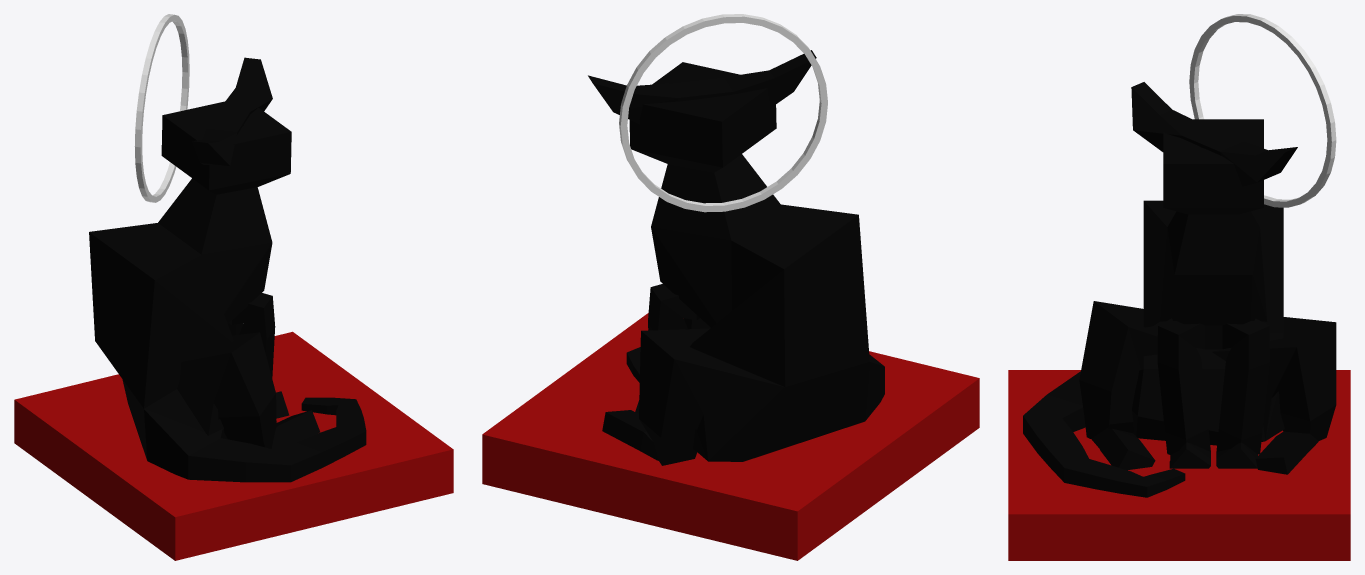
File: chat_noir.fbx
3 views of the same model, side by side, from view 1: azimuth 30°, elevation 25°; view 2: azimuth 150°, elevation 25°; view 3: azimuth 270°, elevation 25° (orthographic). The views are drawn at different scales.
Visible parts, largest first — view 1: Cat, Ground, Ears, Circle; view 2: Cat, Ground, Circle, Ears; view 3: Cat, Ground, Ears, Circle.
Boxes of the visible parts, left/top/right/bottom form: Cat: left=89, top=101, right=366, bottom=482; Ground: left=14, top=331, right=453, bottom=560; Ears: left=191, top=57, right=272, bottom=168; Circle: left=134, top=14, right=189, bottom=202; Cat: left=602, top=62, right=884, bottom=465; Ground: left=482, top=313, right=979, bottom=560; Circle: left=619, top=14, right=827, bottom=212; Ears: left=588, top=50, right=816, bottom=123; Cat: left=1023, top=119, right=1336, bottom=497; Ground: left=1008, top=370, right=1350, bottom=560; Ears: left=1131, top=82, right=1297, bottom=186; Circle: left=1189, top=14, right=1336, bottom=207.
Size of the model in its own units: 200 by 292 by 200.
